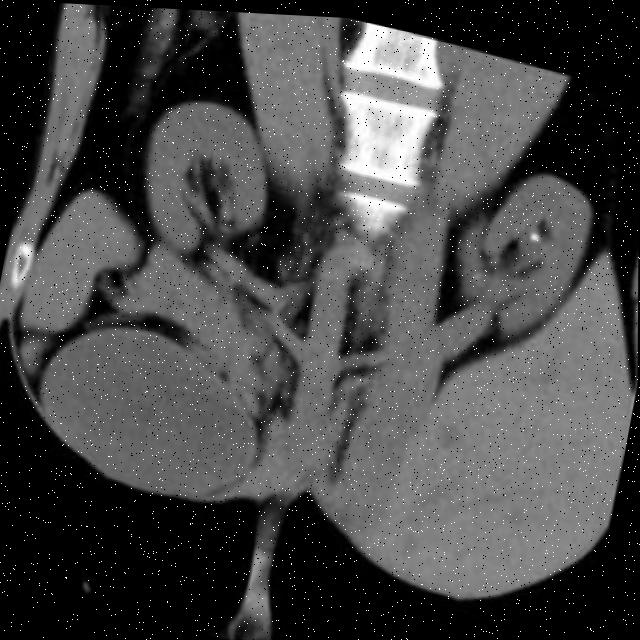Tas_Var: (526, 223, 545, 241)
